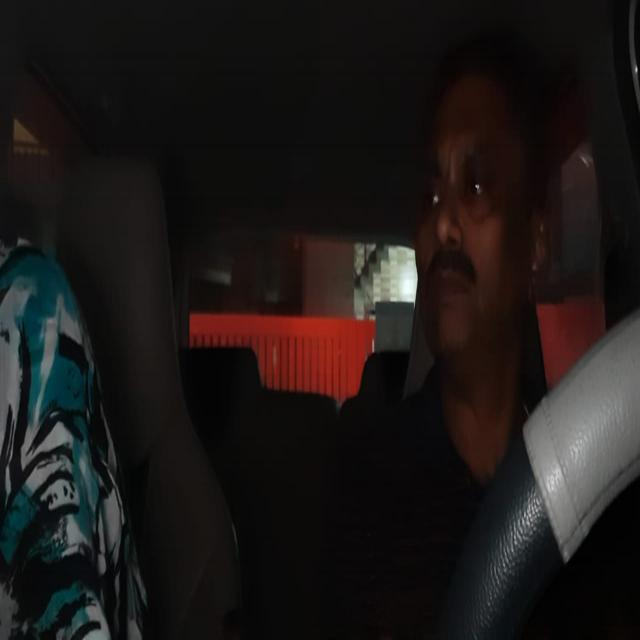person: (413, 51, 558, 402)
